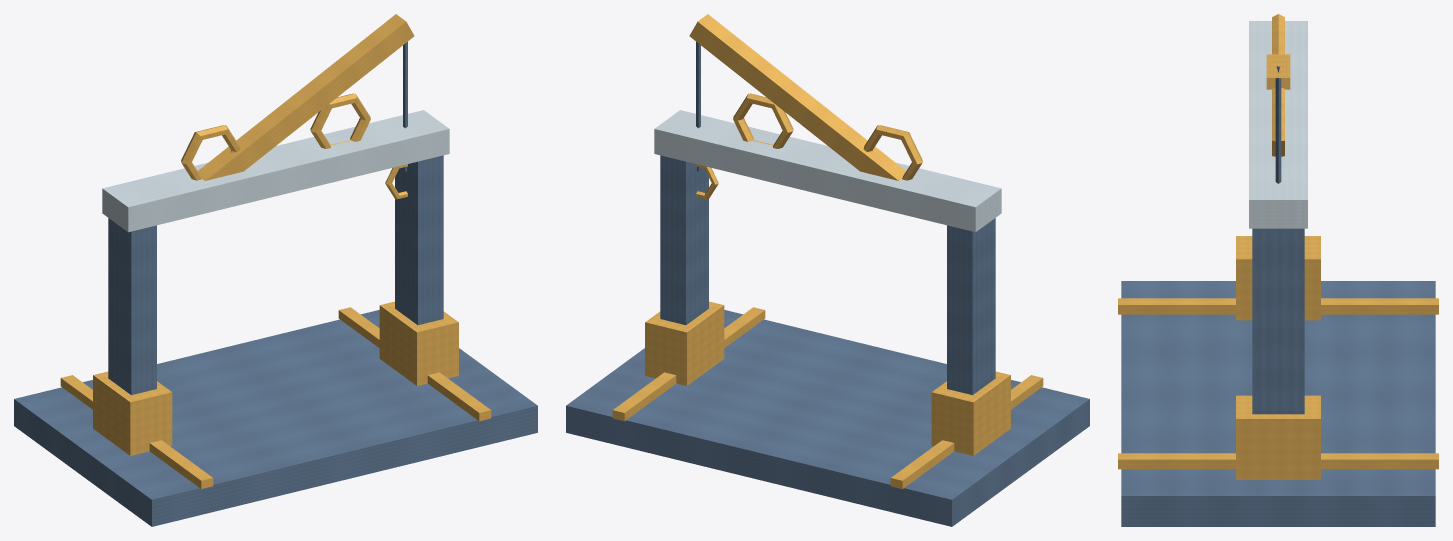
Rendered from atlas100-s059-a01.lod2.glb.
The picture shows the model from 3 angles, left to right: view 1: azimuth 30°, elevation 25°; view 2: azimuth 150°, elevation 25°; view 3: azimuth 270°, elevation 25°; orthographic projection. The views are drawn at different scales.
Visible parts, largest first — view 1: atlas100-s059-a01:part-000, atlas100-s059-a01:part-007, atlas100-s059-a01:part-003, atlas100-s059-a01:part-005, atlas100-s059-a01:part-008, atlas100-s059-a01:part-004, atlas100-s059-a01:part-006, atlas100-s059-a01:part-002, atlas100-s059-a01:part-001, atlas100-s059-a01:part-012, atlas100-s059-a01:part-011; view 2: atlas100-s059-a01:part-000, atlas100-s059-a01:part-007, atlas100-s059-a01:part-003, atlas100-s059-a01:part-005, atlas100-s059-a01:part-008, atlas100-s059-a01:part-004, atlas100-s059-a01:part-006, atlas100-s059-a01:part-002, atlas100-s059-a01:part-001, atlas100-s059-a01:part-012, atlas100-s059-a01:part-011; view 3: atlas100-s059-a01:part-000, atlas100-s059-a01:part-007, atlas100-s059-a01:part-005, atlas100-s059-a01:part-006, atlas100-s059-a01:part-001, atlas100-s059-a01:part-002, atlas100-s059-a01:part-004, atlas100-s059-a01:part-008, atlas100-s059-a01:part-009, atlas100-s059-a01:part-012, atlas100-s059-a01:part-011.
Part boxes in pixels (x1,y1,x2,y2): atlas100-s059-a01:part-000: (14,310,537,526); atlas100-s059-a01:part-007: (102,110,449,232); atlas100-s059-a01:part-003: (108,218,156,395); atlas100-s059-a01:part-005: (395,155,443,325); atlas100-s059-a01:part-008: (198,14,414,180); atlas100-s059-a01:part-004: (93,371,172,455); atlas100-s059-a01:part-006: (379,301,458,385); atlas100-s059-a01:part-002: (338,307,491,421); atlas100-s059-a01:part-001: (60,375,213,488); atlas100-s059-a01:part-012: (310,93,370,148); atlas100-s059-a01:part-011: (181,125,240,180); atlas100-s059-a01:part-000: (566,310,1089,526); atlas100-s059-a01:part-007: (654,110,1001,232); atlas100-s059-a01:part-003: (947,218,995,395); atlas100-s059-a01:part-005: (660,155,708,325); atlas100-s059-a01:part-008: (689,14,905,180); atlas100-s059-a01:part-004: (931,371,1010,455); atlas100-s059-a01:part-006: (645,301,724,385); atlas100-s059-a01:part-002: (612,307,765,421); atlas100-s059-a01:part-001: (890,375,1043,488); atlas100-s059-a01:part-012: (733,93,793,148); atlas100-s059-a01:part-011: (863,125,922,180); atlas100-s059-a01:part-000: (1121,281,1435,526); atlas100-s059-a01:part-007: (1249,21,1307,228); atlas100-s059-a01:part-005: (1252,228,1304,414); atlas100-s059-a01:part-006: (1236,395,1320,479); atlas100-s059-a01:part-001: (1118,298,1438,314); atlas100-s059-a01:part-002: (1118,453,1438,469); atlas100-s059-a01:part-004: (1236,236,1320,320); atlas100-s059-a01:part-008: (1266,54,1290,89); atlas100-s059-a01:part-009: (1275,66,1281,183); atlas100-s059-a01:part-012: (1272,87,1284,156); atlas100-s059-a01:part-011: (1272,14,1284,54).
Bounding box in the file's own units: 3.88 × 3.66 × 2.45.
3 materials, 3 textured.
